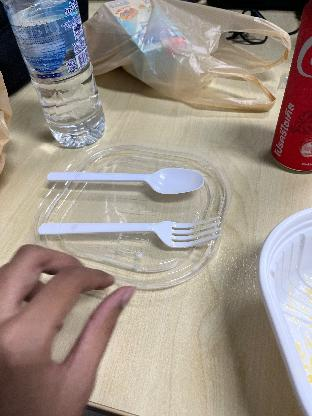Others: (30, 218, 226, 246), (34, 168, 208, 198)
Plastic Bottle: (3, 0, 108, 146)
